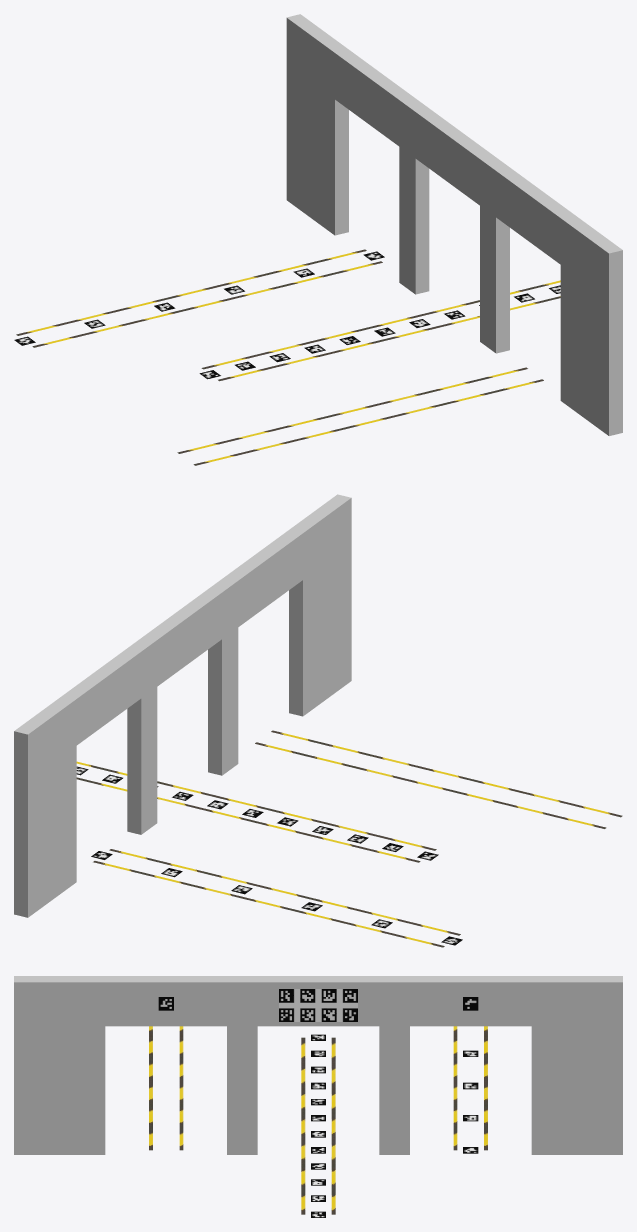
The picture shows the model from 3 angles, top to bottom: view 1: azimuth 30°, elevation 25°; view 2: azimuth 150°, elevation 25°; view 3: azimuth 270°, elevation 25°; orthographic projection. The views are drawn at different scales.
Parts seen in each view (by area): view 1: Cube, warning.006, warning.005, warning.001, warning.002, warning.004, warning.003; view 2: Cube, warning.006, warning.001, warning.005, warning.002, warning.003, warning.004; view 3: Cube, grid_board, warning.004, warning.003, warning.005, warning.002, warning.006, warning.001.
Part boxes in pixels (x1=…): Cube: x1=286, y1=14, x2=622, y2=435; warning.006: x1=16, y1=249, x2=366, y2=335; warning.005: x1=32, y1=261, x2=382, y2=347; warning.001: x1=193, y1=379, x2=543, y2=465; warning.002: x1=177, y1=367, x2=527, y2=453; warning.004: x1=201, y1=280, x2=560, y2=369; warning.003: x1=218, y1=296, x2=560, y2=381; Cube: x1=14, y1=494, x2=351, y2=917; warning.006: x1=93, y1=861, x2=444, y2=947; warning.001: x1=271, y1=730, x2=622, y2=817; warning.005: x1=109, y1=849, x2=460, y2=935; warning.002: x1=255, y1=742, x2=606, y2=828; warning.003: x1=76, y1=761, x2=436, y2=850; warning.004: x1=76, y1=777, x2=420, y2=862; Cube: x1=14, y1=976, x2=622, y2=1154; grid_board: x1=279, y1=989, x2=357, y2=1021; warning.004: x1=331, y1=1037, x2=335, y2=1214; warning.003: x1=301, y1=1037, x2=305, y2=1214; warning.005: x1=453, y1=1026, x2=457, y2=1150; warning.002: x1=179, y1=1026, x2=183, y2=1150; warning.006: x1=484, y1=1026, x2=487, y2=1150; warning.001: x1=149, y1=1026, x2=152, y2=1150.
Size of the model in its own units: 7.2 by 8 by 2.5.
28 materials, 27 textured.
